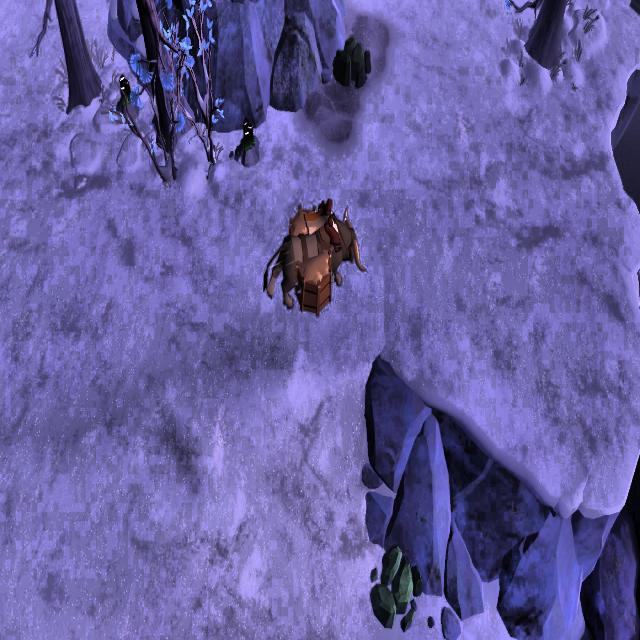ore_t3: (115, 73, 132, 108), (240, 116, 253, 156)
rock_t3: (364, 542, 423, 632), (331, 29, 376, 92)
